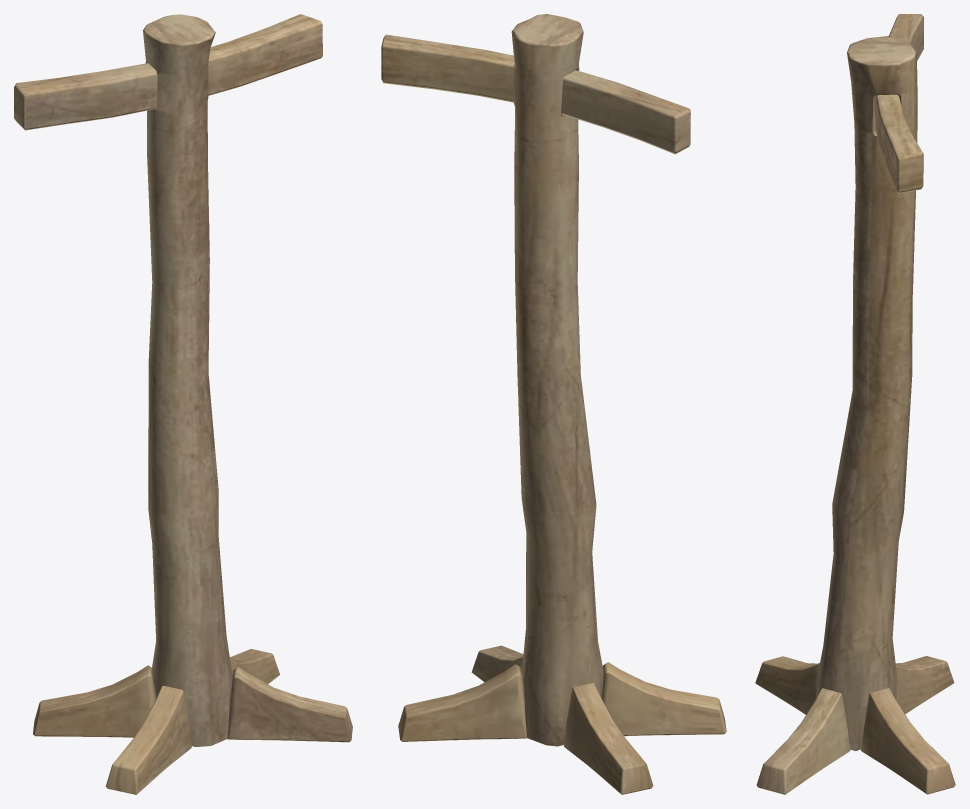
3 renders of one model, left to right at view 1: azimuth 30°, elevation 25°; view 2: azimuth 150°, elevation 25°; view 3: azimuth 270°, elevation 25°, orthographic. The views are drawn at different scales.
Visible parts, largest first — view 1: SM_Cape_Rack_01_LOD0; view 2: SM_Cape_Rack_01_LOD0; view 3: SM_Cape_Rack_01_LOD0.
Part boxes in pixels (x1,y1,x2,y2): SM_Cape_Rack_01_LOD0: [14, 14, 352, 794]; SM_Cape_Rack_01_LOD0: [381, 14, 726, 794]; SM_Cape_Rack_01_LOD0: [755, 14, 955, 794].
Size of the model in its own units: 0.7617 by 1.69 by 0.4461.
Materials: 1 (1 with a texture image).
